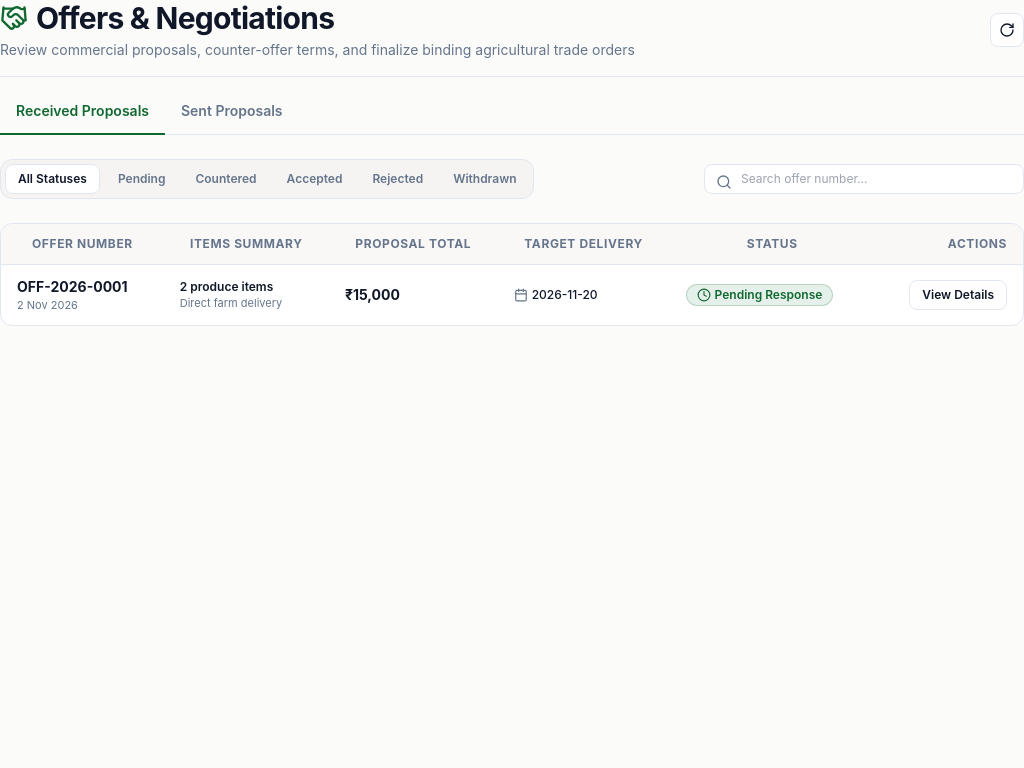
Test: OffersPage › opens offer detail modal when clicking View Details
Expected: the text "OFF-2026-0001" is shown, left=17, top=278, right=128, bottom=295
Click the button "View Details" at [958, 295], box left=909, top=280, right=1007, bottom=310
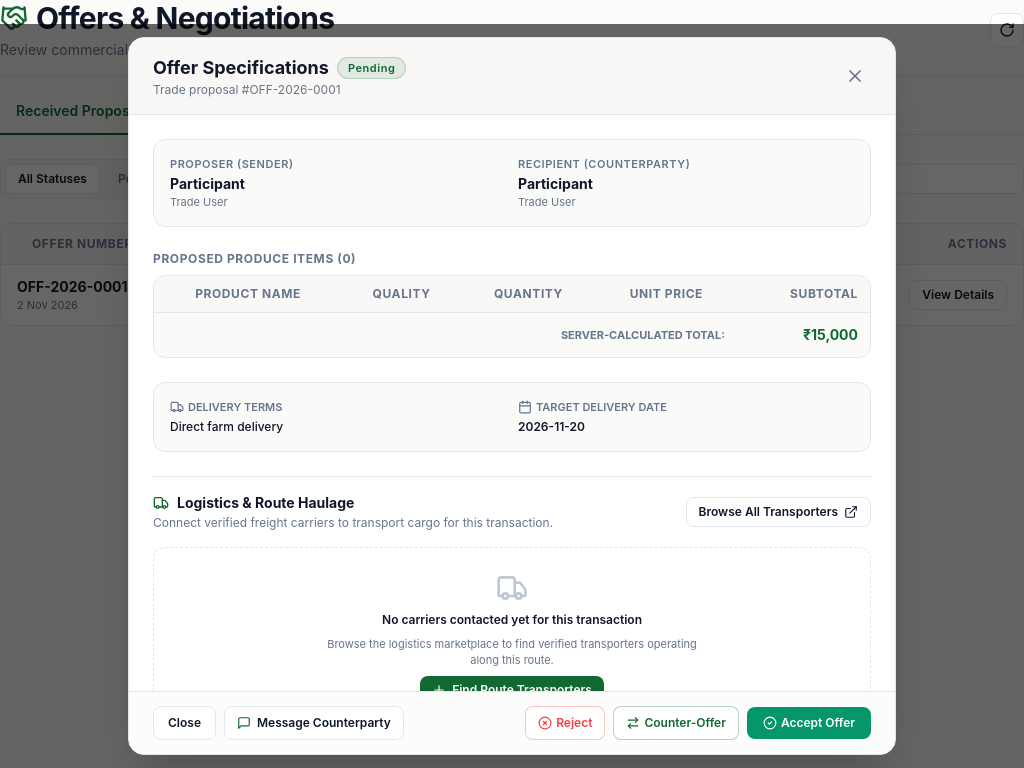
Expected: the dialog is shown
